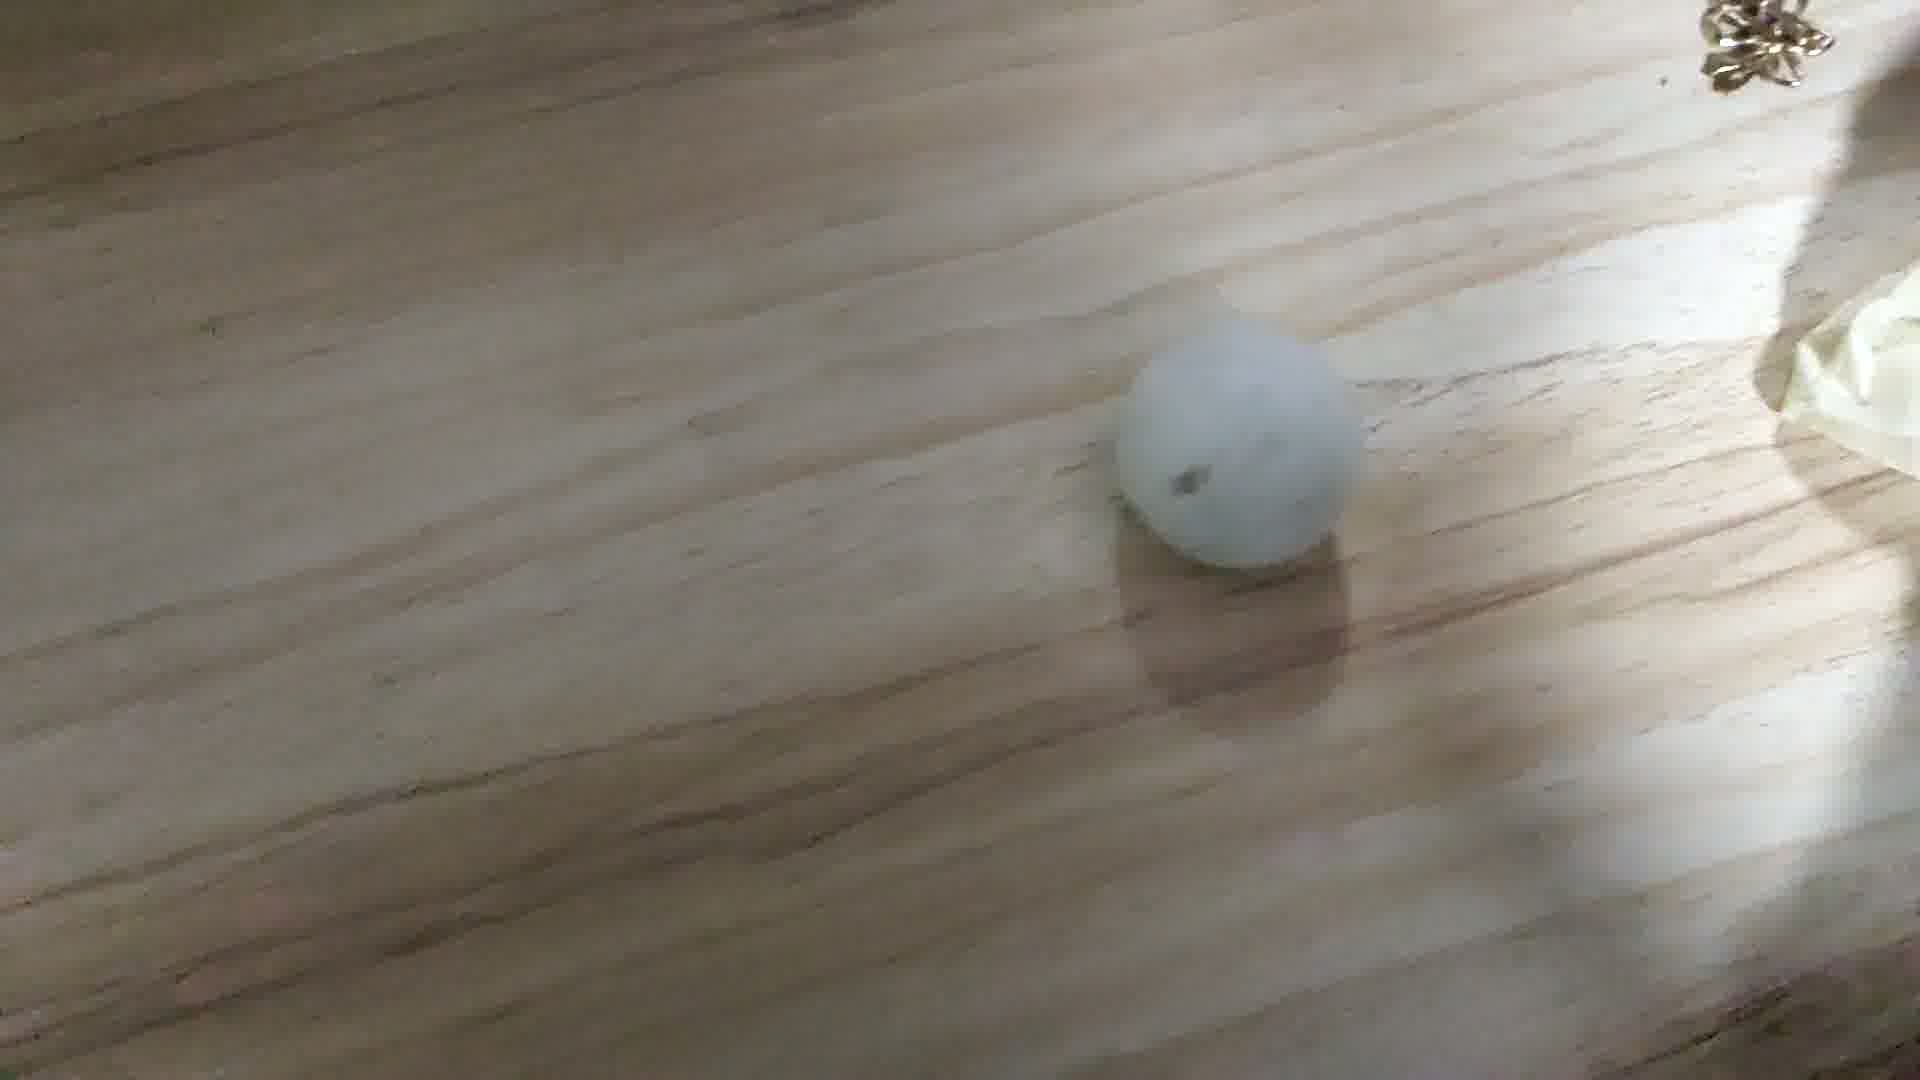Ball: (1112, 320, 1364, 568)
